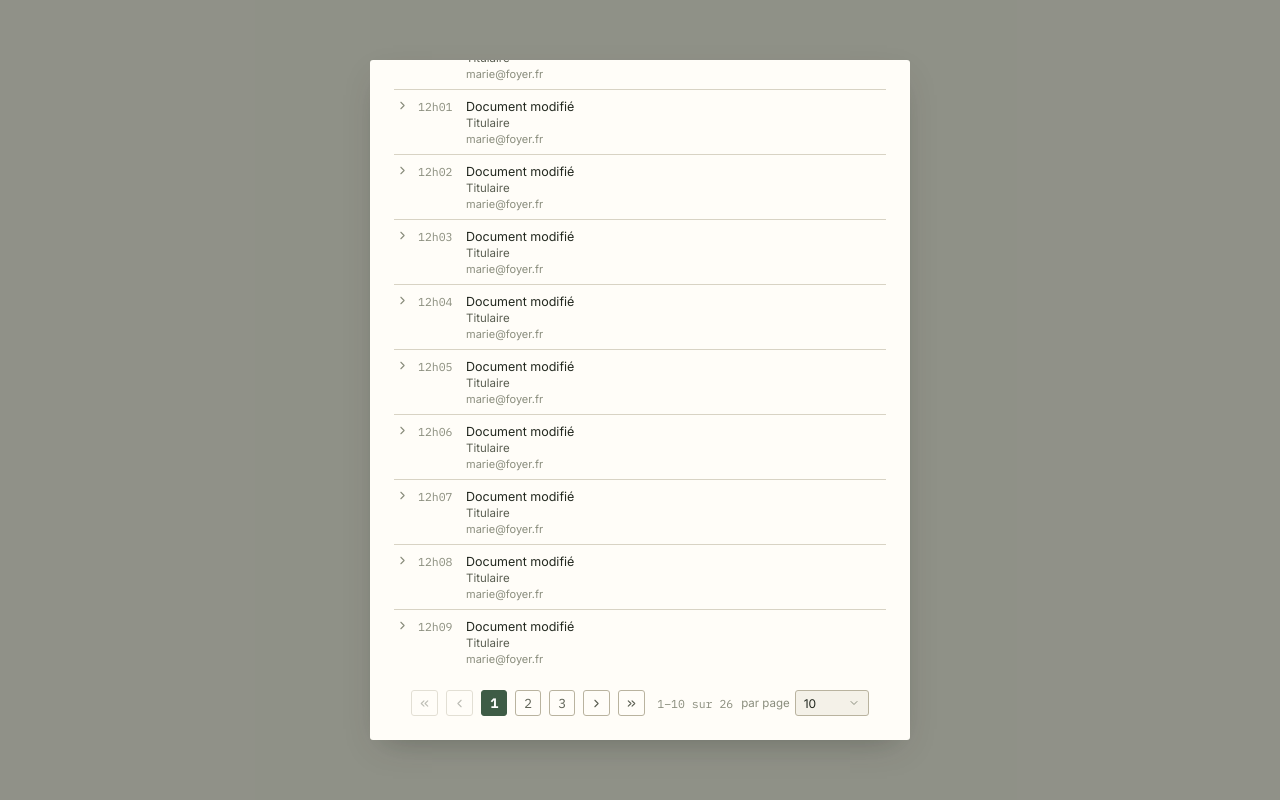
Test: historique volumineux › change de page sans perdre le compte
(page scrolled)
Click the button named "Page suivante": point(597, 703) [583,690,610,716]
(page scrolled)
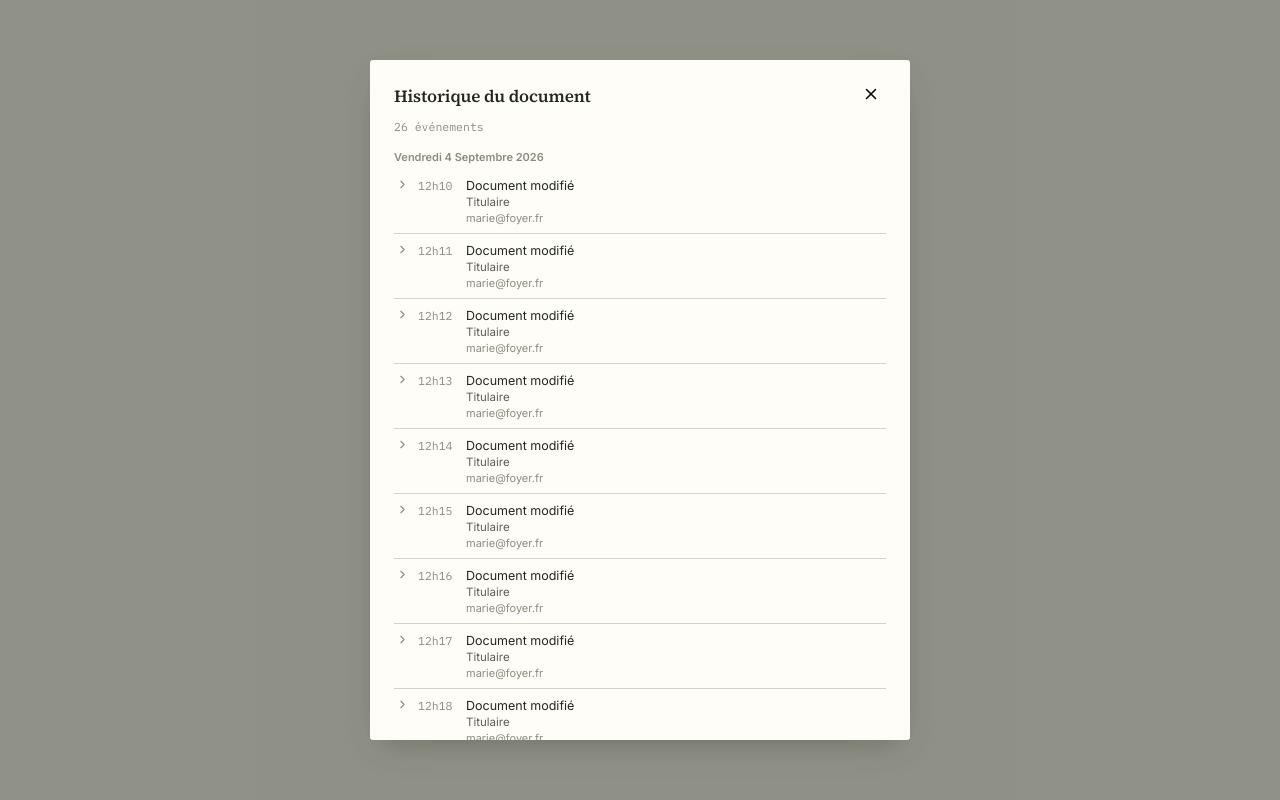
expect the text "26 événements" is shown: met, box [394,118,484,134]
